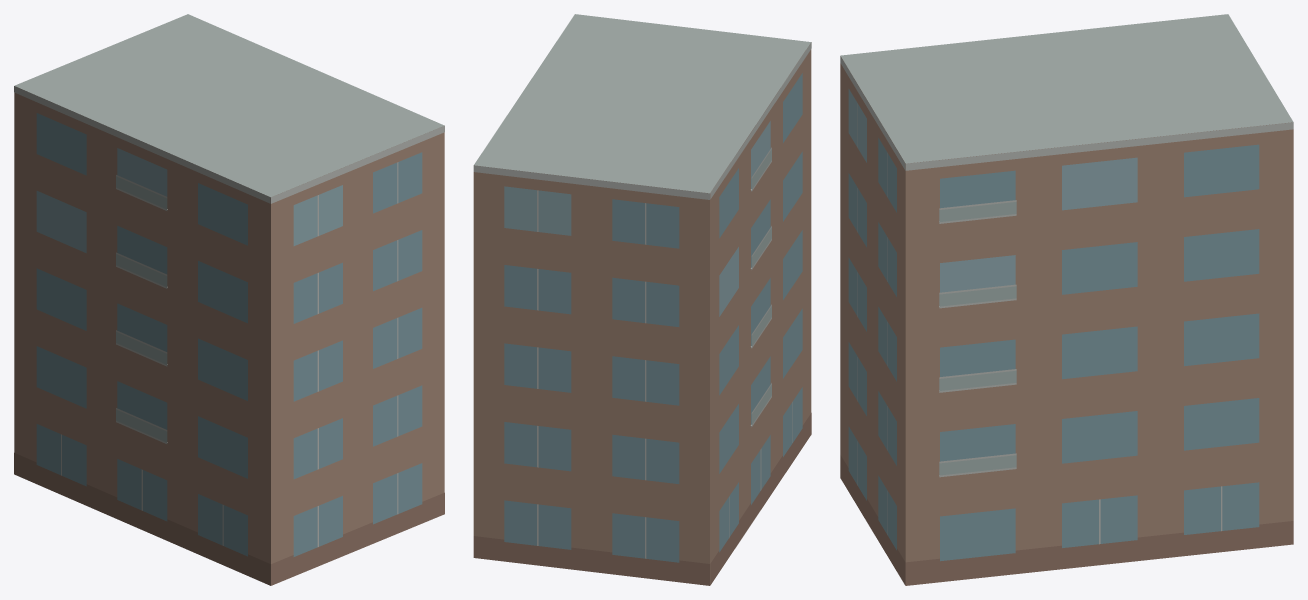
The model's file is survey-upis-33045830.glb.
3 views of the same model, side by side, from view 1: azimuth 30°, elevation 25°; view 2: azimuth 150°, elevation 25°; view 3: azimuth 270°, elevation 25° (orthographic). The views are drawn at different scales.
Visible parts, largest first — view 1: survey-upis-33045830.tmp; view 2: survey-upis-33045830.tmp; view 3: survey-upis-33045830.tmp.
Part boxes in pixels (bbox=[...]): survey-upis-33045830.tmp: bbox=[14, 14, 444, 585]; survey-upis-33045830.tmp: bbox=[473, 14, 811, 585]; survey-upis-33045830.tmp: bbox=[840, 14, 1293, 585].
Size of the model in its own units: 10.88 by 14.3 by 13.92.
